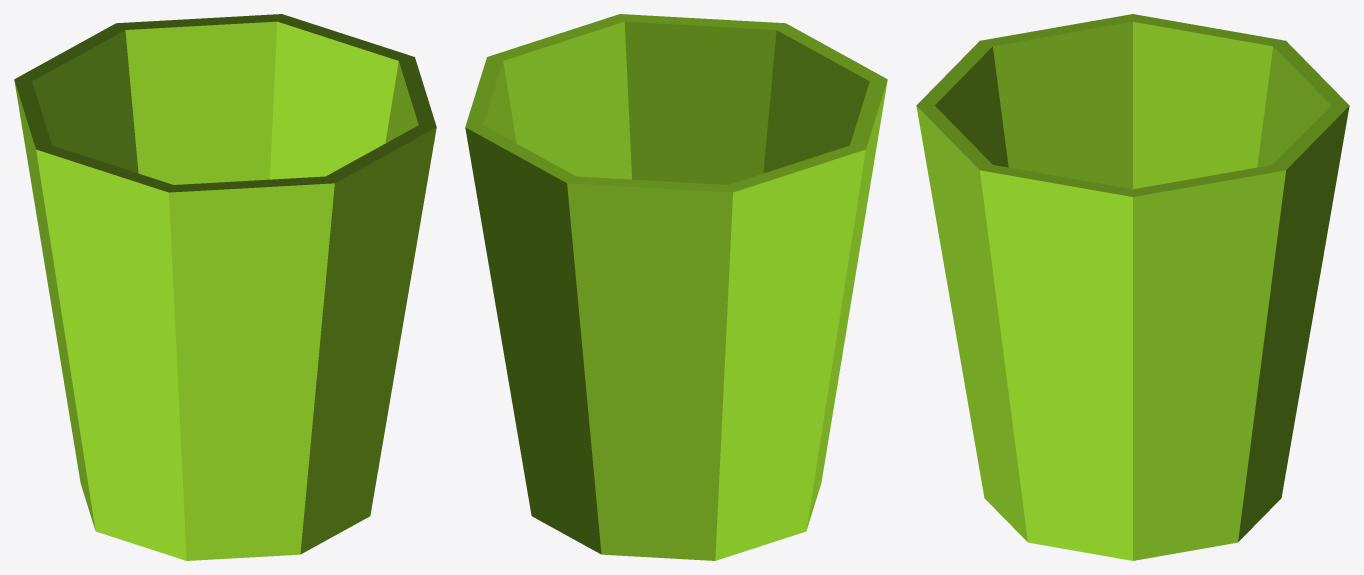
The model's file is Trash Can 7.fbx.
3 renders of one model, left to right at view 1: azimuth 30°, elevation 25°; view 2: azimuth 150°, elevation 25°; view 3: azimuth 270°, elevation 25°, orthographic.
Visible parts, largest first — view 1: Trash Can; view 2: Trash Can; view 3: Trash Can.
Part boxes in pixels (x1,y1,x2,y2): Trash Can: (14,14,436,560); Trash Can: (465,14,887,560); Trash Can: (916,14,1349,560).
Bounding box in the file's own units: 0.4176 × 0.4176 × 0.4176.
